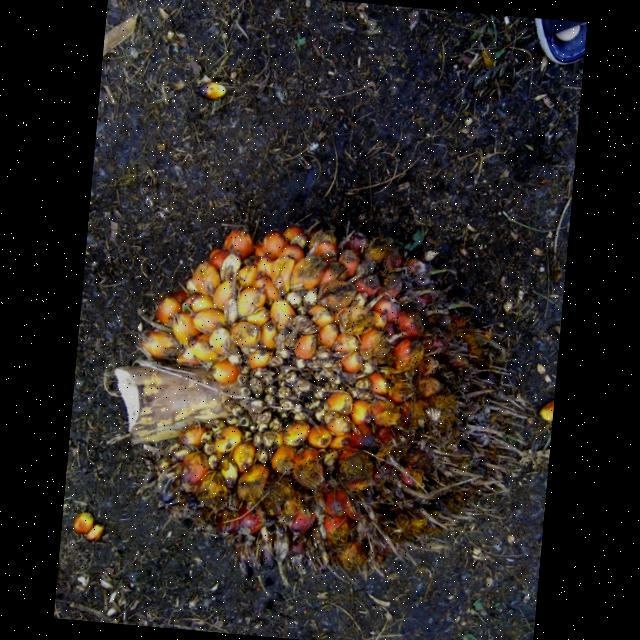Ripe: (136, 230, 501, 565)
